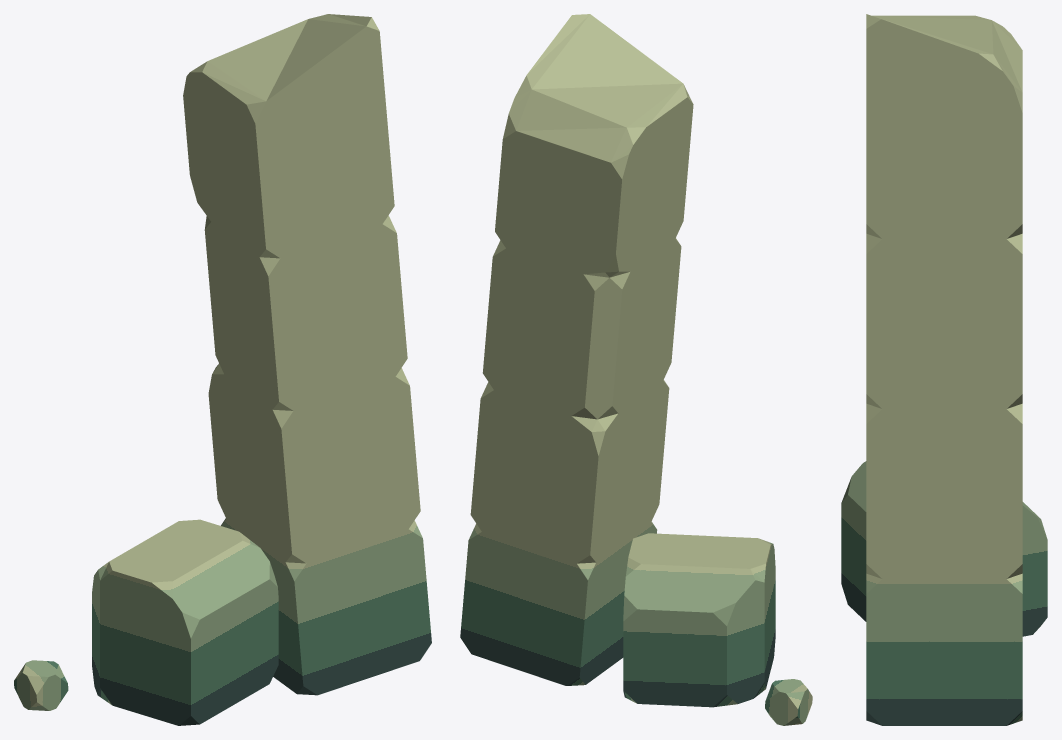
Rendered from Fallen Pillar 1.003.fbx.
3 views of the same model, side by side, from view 1: azimuth 30°, elevation 25°; view 2: azimuth 150°, elevation 25°; view 3: azimuth 270°, elevation 25° (orthographic). The views are drawn at different scales.
Parts seen in each view (by area): view 1: Fallen Pillar 1.003; view 2: Fallen Pillar 1.003; view 3: Fallen Pillar 1.003.
Boxes of the visible parts, bbox=[...] form: Fallen Pillar 1.003: bbox=[14, 14, 431, 725]; Fallen Pillar 1.003: bbox=[460, 14, 812, 725]; Fallen Pillar 1.003: bbox=[841, 14, 1047, 725].
Bounding box in the file's own units: 237 × 422 × 114.
